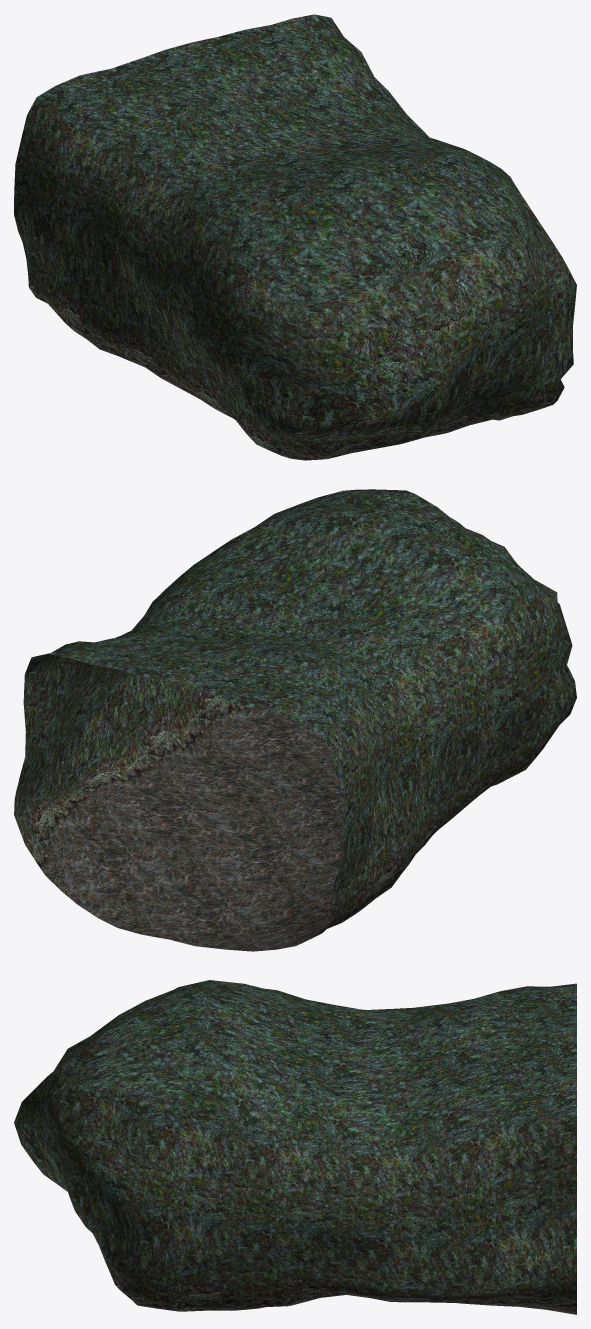
Rendered from thm_all_cave_s01_damprock_mirror_r11_mesh_r11.fbx.
3 renders of one model, top to bottom at view 1: azimuth 30°, elevation 25°; view 2: azimuth 150°, elevation 25°; view 3: azimuth 270°, elevation 25°, orthographic. The views are drawn at different scales.
Visible parts, largest first — view 1: mesh_node; view 2: mesh_node; view 3: mesh_node.
Boxes of the visible parts, box(x1,y1,x2,y2) form: mesh_node: box(14, 14, 576, 460); mesh_node: box(14, 489, 576, 951); mesh_node: box(14, 980, 576, 1314).
Size of the model in its own units: 34.13 by 27 by 50.77.
